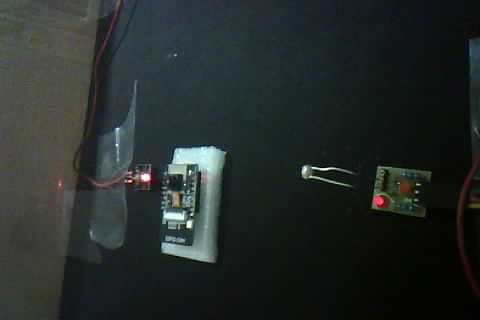esp32: (154, 144, 227, 262)
